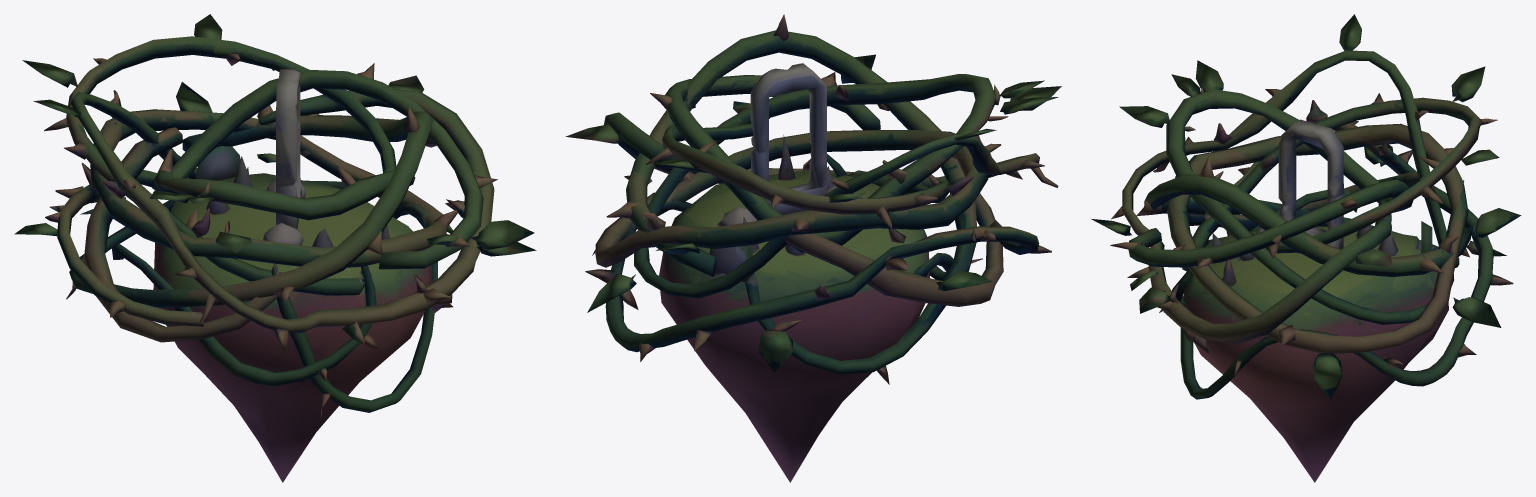
File: wood_restrain_t3.glb
3 renders of one model, left to right at view 1: azimuth 30°, elevation 25°; view 2: azimuth 150°, elevation 25°; view 3: azimuth 270°, elevation 25°, orthographic. The views are drawn at different scales.
Parts seen in each view (by area): view 1: tripo_node_fdd37504-c758-48b0-8d09-39d79de71afb; view 2: tripo_node_fdd37504-c758-48b0-8d09-39d79de71afb; view 3: tripo_node_fdd37504-c758-48b0-8d09-39d79de71afb.
Part boxes in pixels (bbox=[...]): tripo_node_fdd37504-c758-48b0-8d09-39d79de71afb: bbox=[14, 14, 536, 482]; tripo_node_fdd37504-c758-48b0-8d09-39d79de71afb: bbox=[565, 14, 1061, 482]; tripo_node_fdd37504-c758-48b0-8d09-39d79de71afb: bbox=[1091, 14, 1521, 482].
Size of the model in its own units: 0.9941 by 0.9473 by 0.998.
1 material, 1 textured.
